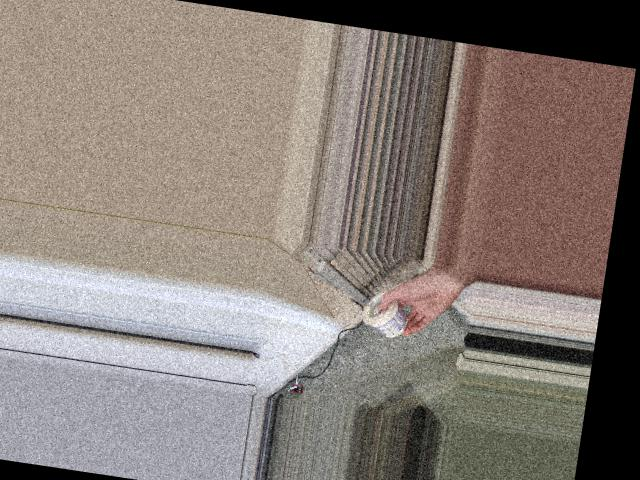cotage: (361, 291, 414, 340)
